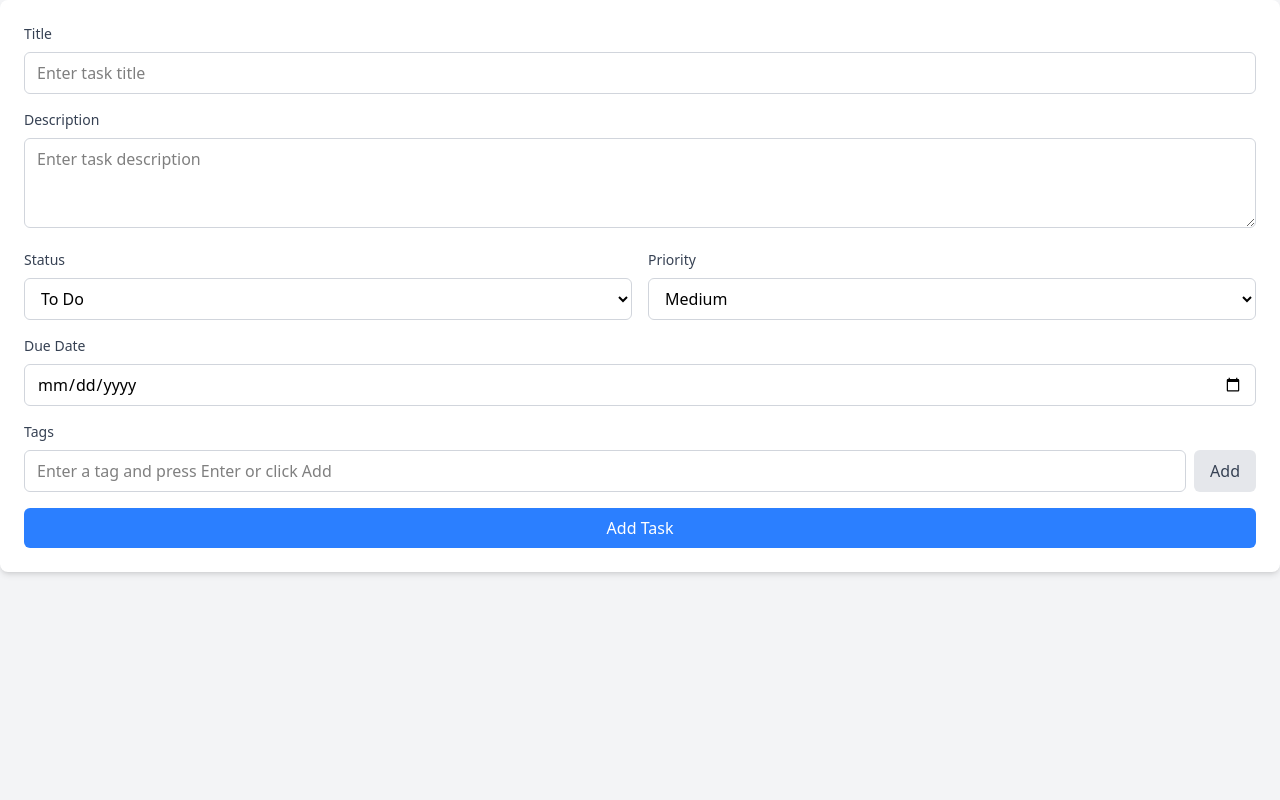
Test: TaskForm › should add tag when Enter key is pressed
The width and height of the screenshot is (1280, 800).
Step 1. Type "urgent" into the field labelled "Tags" → (605, 471), box [24,450,1186,492]
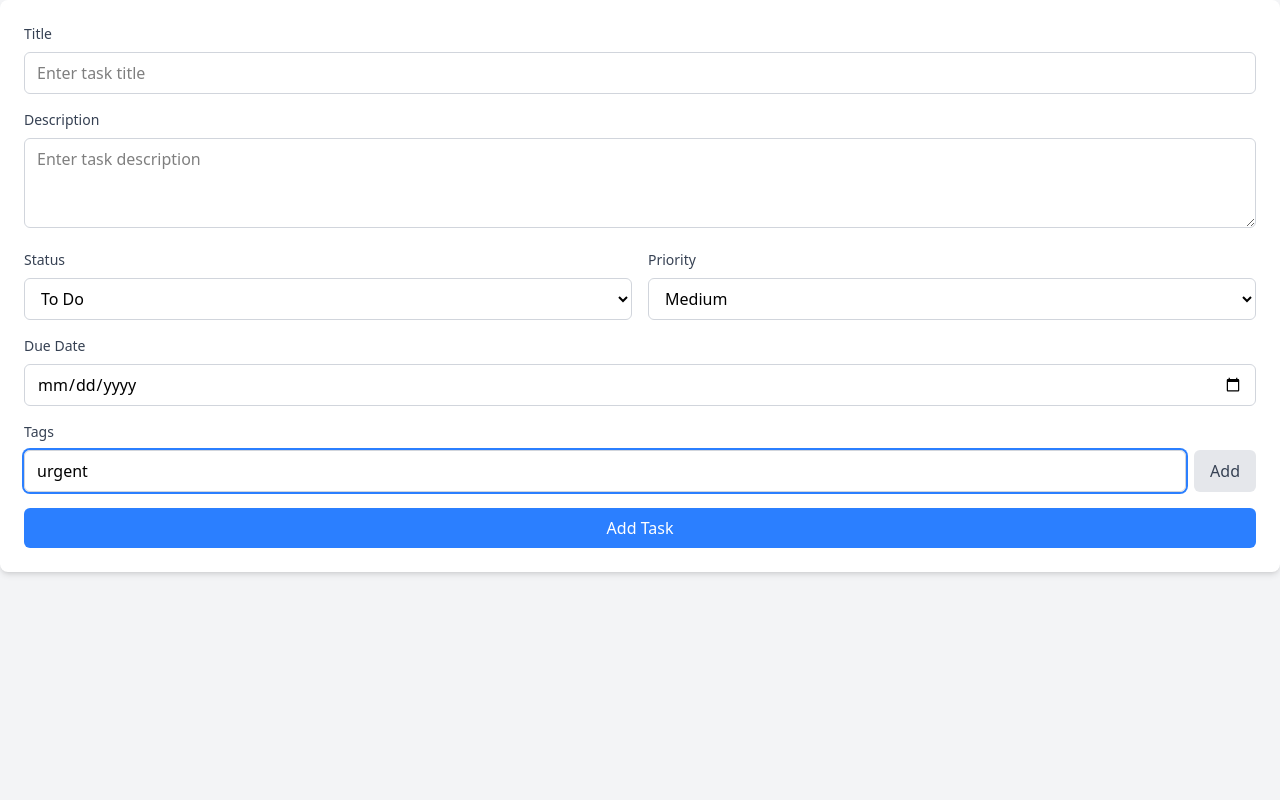
Step 2. Press Enter
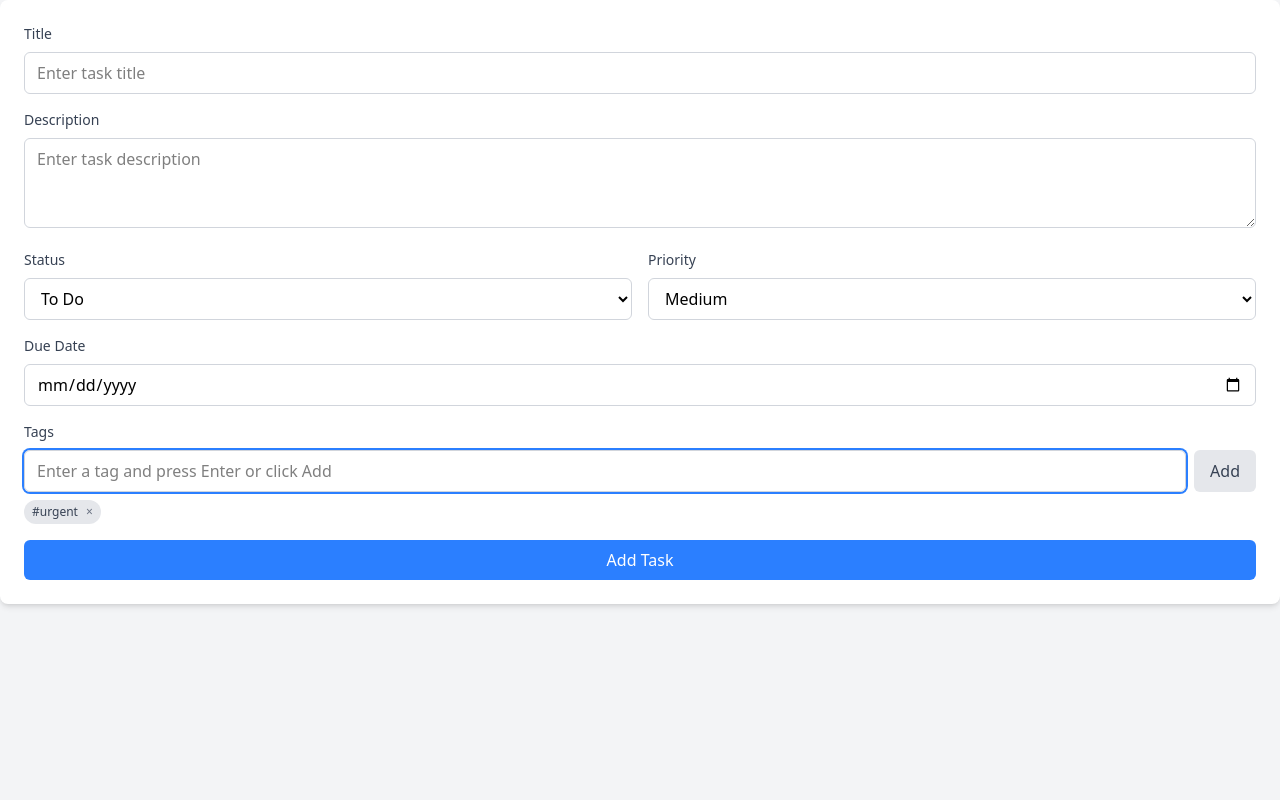
Result: the text "#urgent" is shown at [24,500,101,524]
Result: the field labelled "Tags" is empty at [24,450,1186,492]
